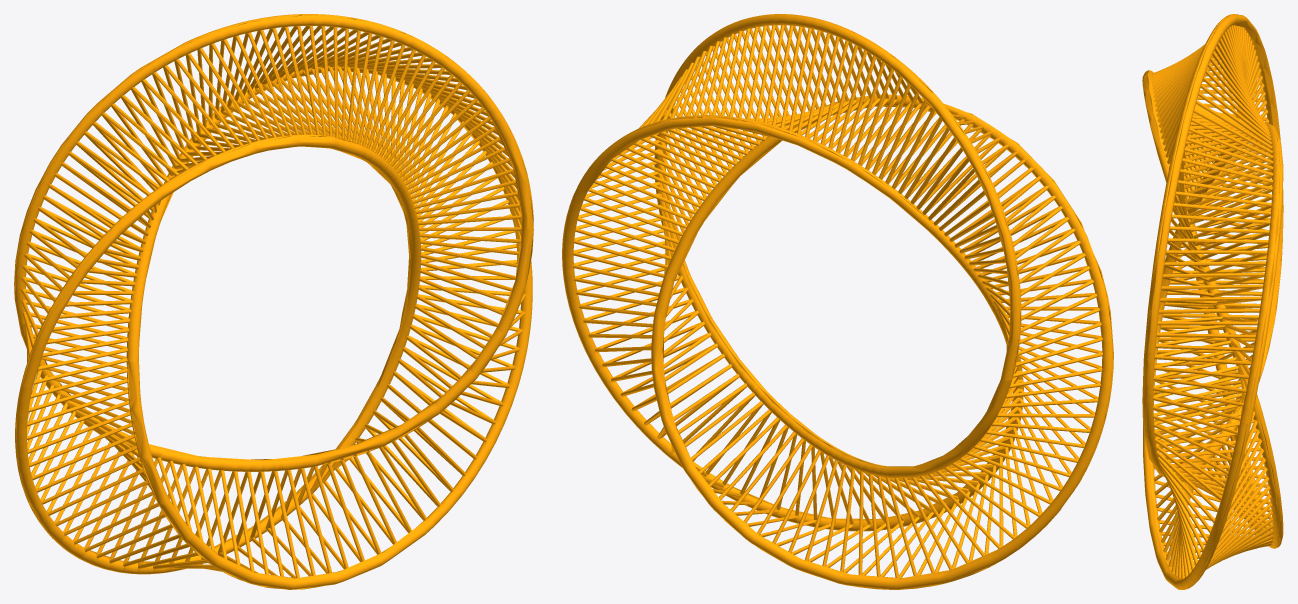
The model's file is gelang_3.glb.
3 views of the same model, side by side, from view 1: azimuth 30°, elevation 25°; view 2: azimuth 150°, elevation 25°; view 3: azimuth 270°, elevation 25° (orthographic). The views are drawn at different scales.
Parts seen in each view (by area): view 1: Geode; view 2: Geode; view 3: Geode.
Part boxes in pixels (x1=…): Geode: x1=14, y1=14, x2=533, y2=589; Geode: x1=562, y1=14, x2=1113, y2=589; Geode: x1=1142, y1=14, x2=1283, y2=589.
Bounding box in the file's own units: 7.07 × 6.92 × 1.73.
